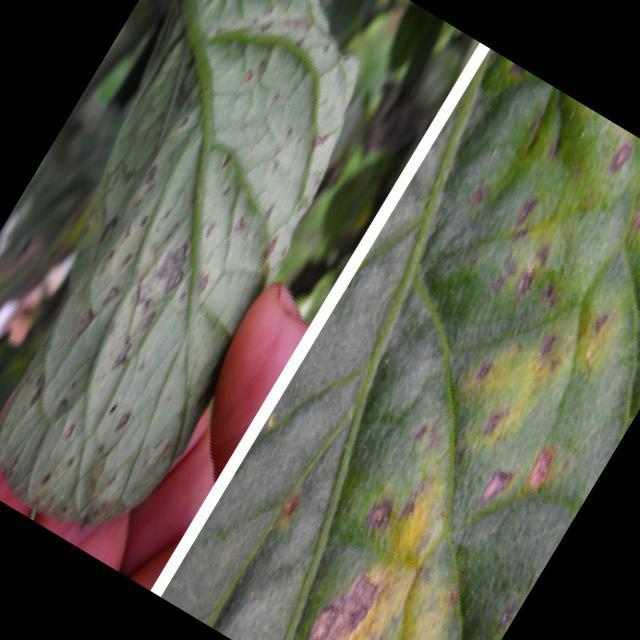Tomato Septoria spot leaf: (162, 50, 640, 640), (0, 0, 445, 564)
